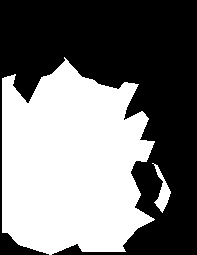Fire: (51, 59, 151, 206), (157, 176, 175, 219)
